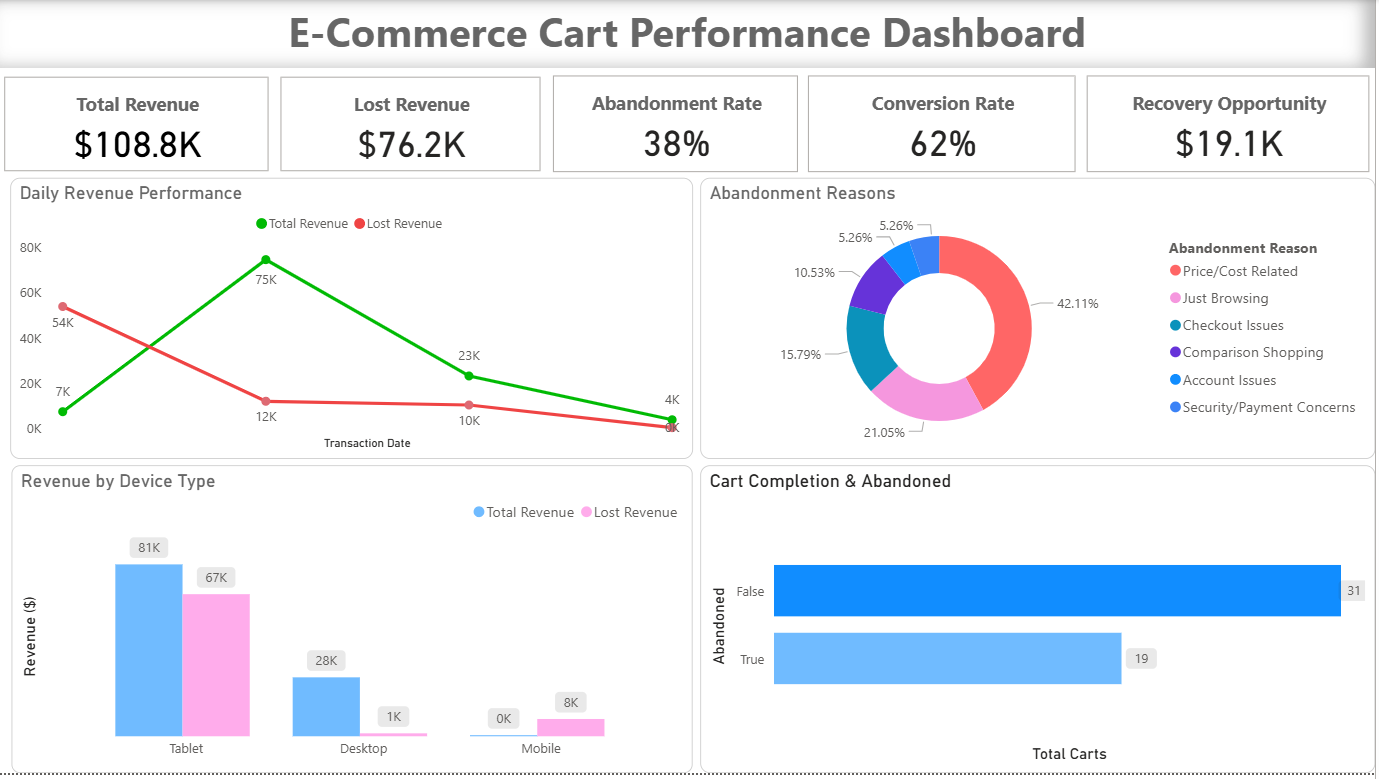

What the dashboard file says about the page in this screenshot:
{"tool":"powerbi","page":{"name":"📊 Executive Overview","canvas":[1280,720],"ordinal":0},"visuals":[{"type":"cardVisual","fields":{"Data":["CartData_Cleaned.Total Revenue"]},"box":[0,67.4,257,98.8],"z":0},{"type":"cardVisual","fields":{"Data":["CartData_Cleaned.Lost Revenue"]},"box":[257,67.4,252.3,98.8],"z":1000},{"type":"cardVisual","fields":{"Data":["CartData_Cleaned.Abandonment Rate"]},"box":[510.5,66.3,238.4,100],"z":2000},{"type":"cardVisual","fields":{"Data":["CartData_Cleaned.Conversion Rate"]},"box":[747.7,66.3,259.3,100],"z":3000},{"type":"cardVisual","fields":{"Data":["CartData_Cleaned.Recovery Opportunity"]},"box":[1007,66.3,273.3,100],"z":4000},{"type":"lineChart","title":"Daily Revenue Performance","fields":{"Category":["CartData_Cleaned.transaction_date"],"Y":["CartData_Cleaned.Total Revenue","CartData_Cleaned.Lost Revenue"]},"box":[10.5,166.3,634.9,261.6],"z":5000},{"type":"donutChart","title":"Abandonment Reasons","fields":{"Y":["CartData_Cleaned.Abandoned Carts"],"Category":["CartData_Cleaned.abandonment_category"]},"box":[652.3,166.3,627.9,261.6],"z":6000},{"type":"clusteredColumnChart","title":"Revenue by Device Type","fields":{"Category":["CartData_Cleaned.device_type"],"Y":["CartData_Cleaned.Total Revenue","CartData_Cleaned.Lost Revenue"]},"box":[11.6,433.7,633.7,286],"z":7000},{"type":"barChart","title":"Cart Completion & Abandoned","fields":{"Y":["CartData_Cleaned.Total Carts"],"Category":["CartData_Cleaned.abandoned"]},"box":[652.3,433.7,627.9,286],"z":8000},{"type":"textbox","box":[0,0,1280.2,64],"z":9000}]}

Visuals, with their boxes in screenshot pixels (x1, y1, x2, y2), scaled from the page's 1280x720 canvas onto the 1379x779 screenshot:
cardVisual - CartData_Cleaned.Total Revenue: x1=0 y1=73 x2=277 y2=180
cardVisual - CartData_Cleaned.Lost Revenue: x1=277 y1=73 x2=549 y2=180
cardVisual - CartData_Cleaned.Abandonment Rate: x1=550 y1=72 x2=807 y2=180
cardVisual - CartData_Cleaned.Conversion Rate: x1=806 y1=72 x2=1085 y2=180
cardVisual - CartData_Cleaned.Recovery Opportunity: x1=1085 y1=72 x2=1378 y2=180
"Daily Revenue Performance" lineChart: x1=11 y1=180 x2=695 y2=463
"Abandonment Reasons" donutChart: x1=703 y1=180 x2=1378 y2=463
"Revenue by Device Type" clusteredColumnChart: x1=12 y1=469 x2=695 y2=778
"Cart Completion & Abandoned" barChart: x1=703 y1=469 x2=1378 y2=778
textbox: x1=0 y1=0 x2=1378 y2=69
